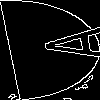A: (25, 25, 100, 63)
